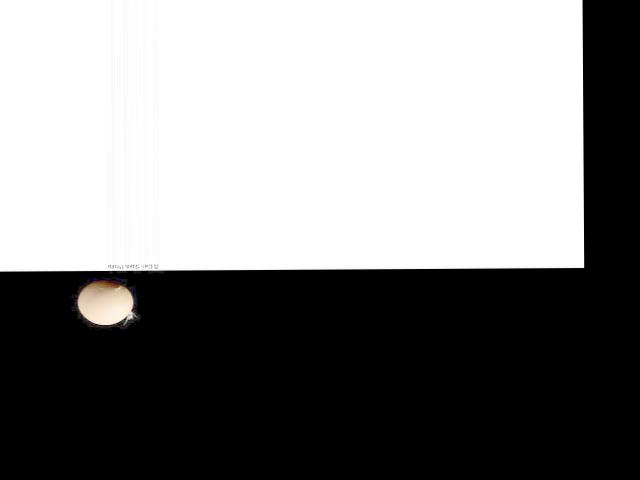egg: (77, 279, 132, 324)
